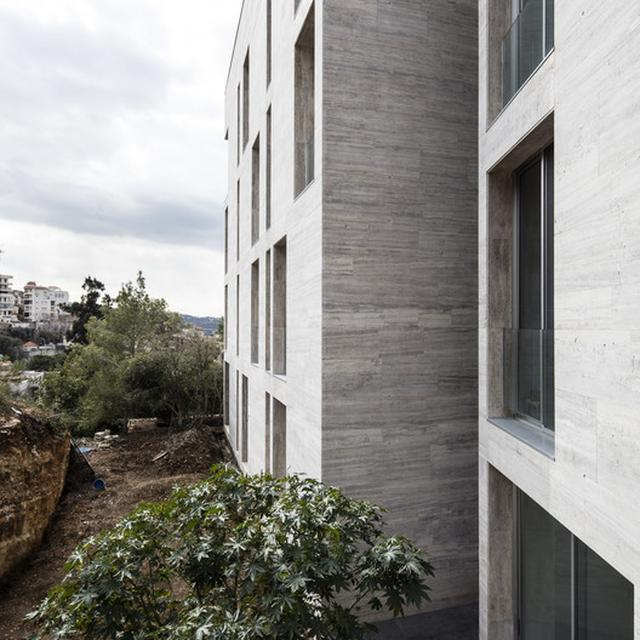building: (216, 2, 478, 617), (474, 0, 640, 640), (0, 261, 73, 338)
